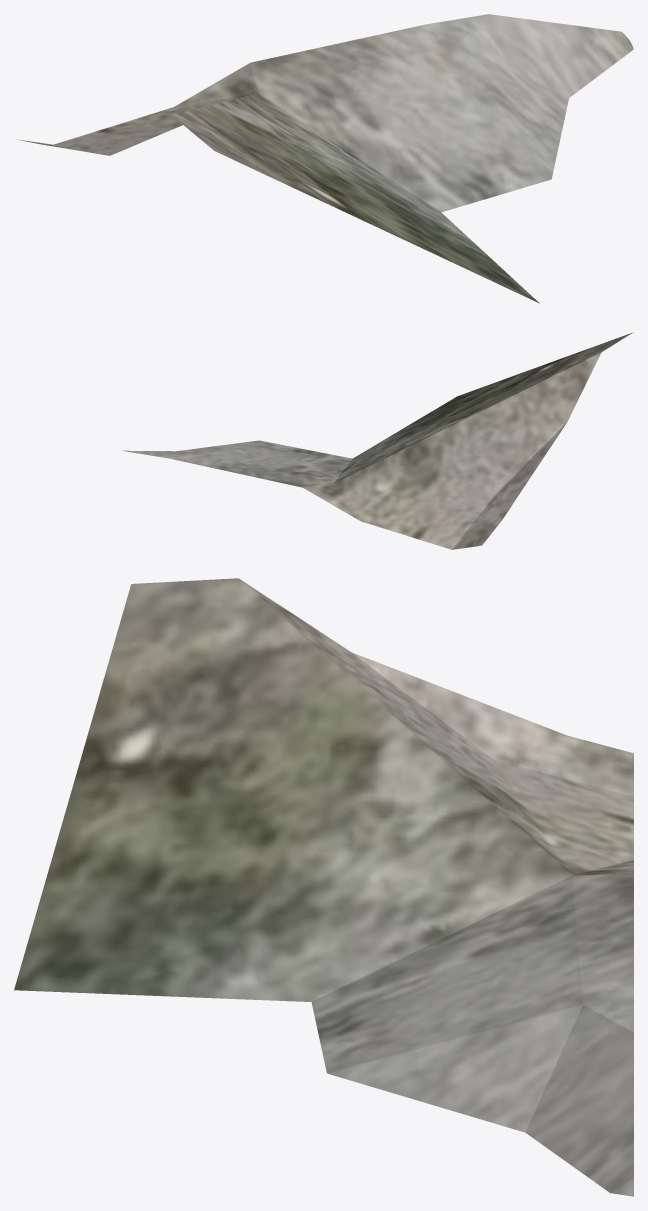
3 renders of one model, top to bottom at view 1: azimuth 30°, elevation 25°; view 2: azimuth 150°, elevation 25°; view 3: azimuth 270°, elevation 25°, orthographic. The views are drawn at different scales.
Size of the model in its own units: 4.09 by 1.22 by 2.84.
Materials: 1 (1 with a texture image).
